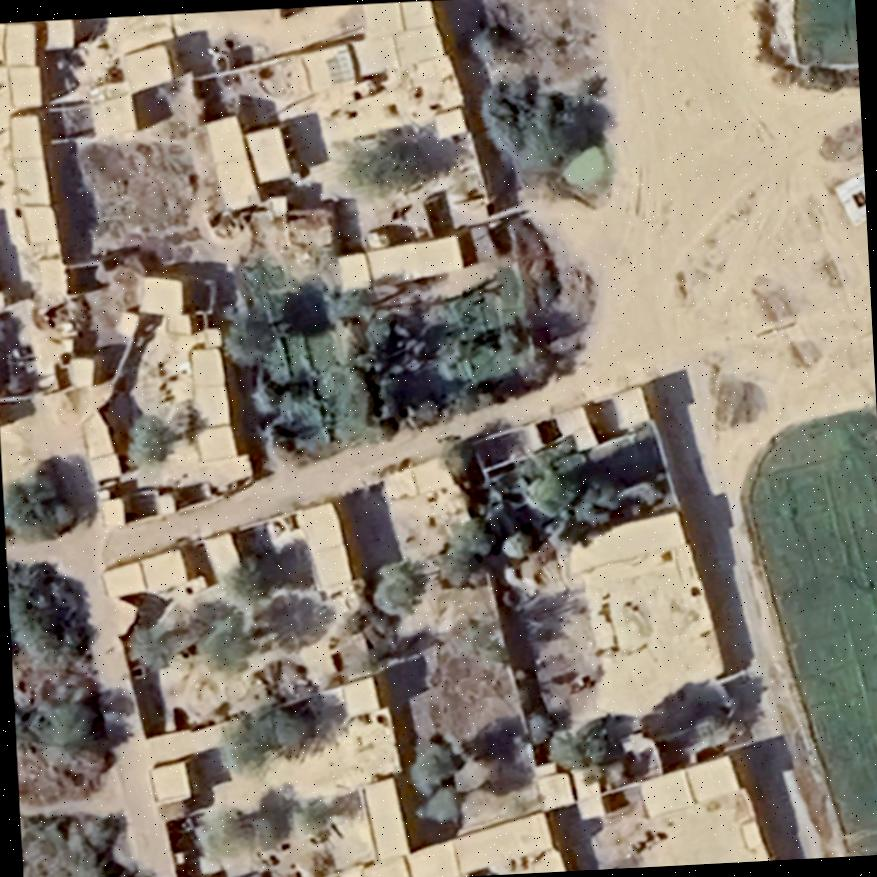Solarpanel: (319, 42, 359, 89)
